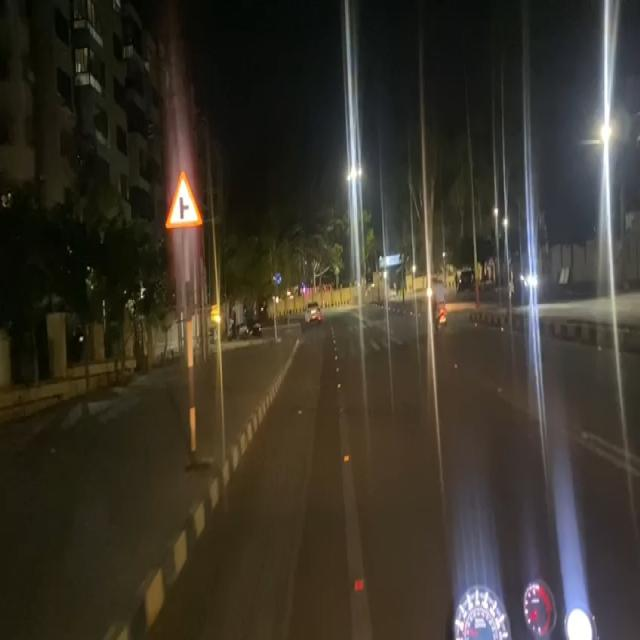bien_cam: (166, 169, 204, 230)
